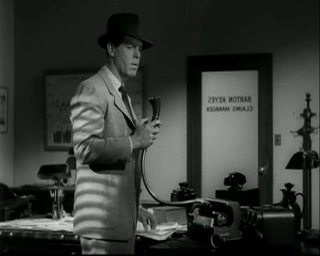face: (121, 37, 143, 77)
mls: (1, 1, 320, 256)
person: (69, 12, 161, 254)
